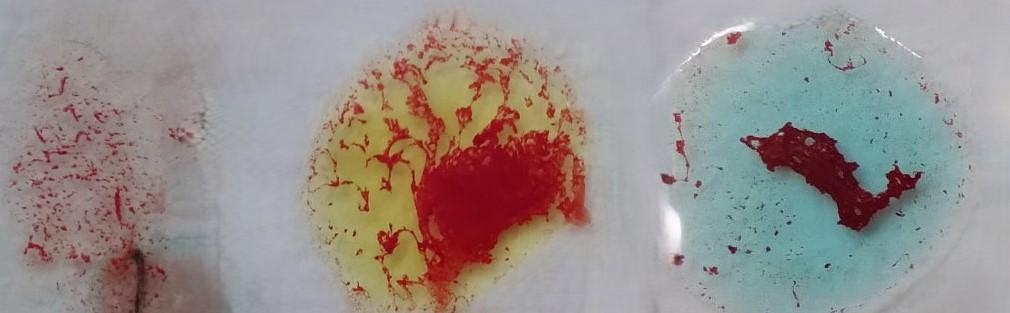A: (663, 9, 969, 313)
B: (319, 27, 582, 303)
D: (0, 10, 208, 313)
